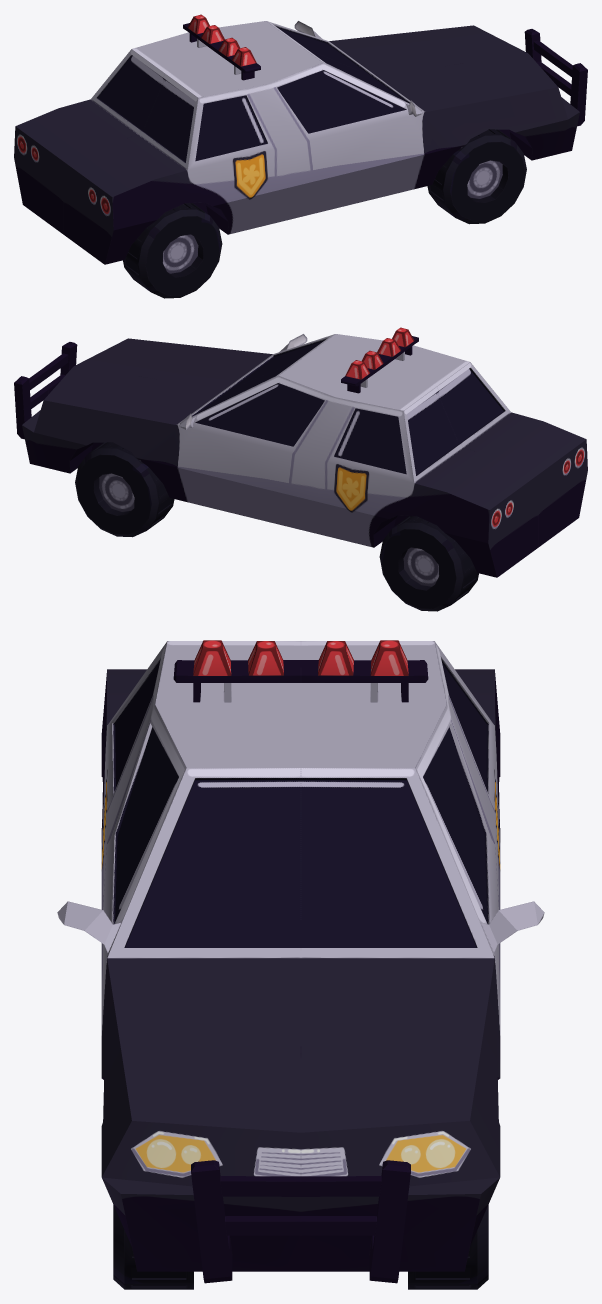
Rendered from policeCar.fbx.
3 views of the same model, one above another, from view 1: azimuth 30°, elevation 25°; view 2: azimuth 150°, elevation 25°; view 3: azimuth 270°, elevation 25° (orthographic). The views are drawn at different scales.
Parts seen in each view (by area): view 1: Cube.001, Cylinder.001; view 2: Cube.001, Cylinder.001; view 3: Cube.001, Cylinder.001.
Part boxes in pixels (<box>): Cube.001: <box>14,14,587,264</box>; Cylinder.001: <box>123,129,526,298</box>; Cube.001: <box>14,327,587,577</box>; Cylinder.001: <box>75,442,478,611</box>; Cube.001: <box>57,640,544,1283</box>; Cylinder.001: <box>113,1205,488,1289</box>.
Bounding box in the file's own units: 462 × 188 × 196.
